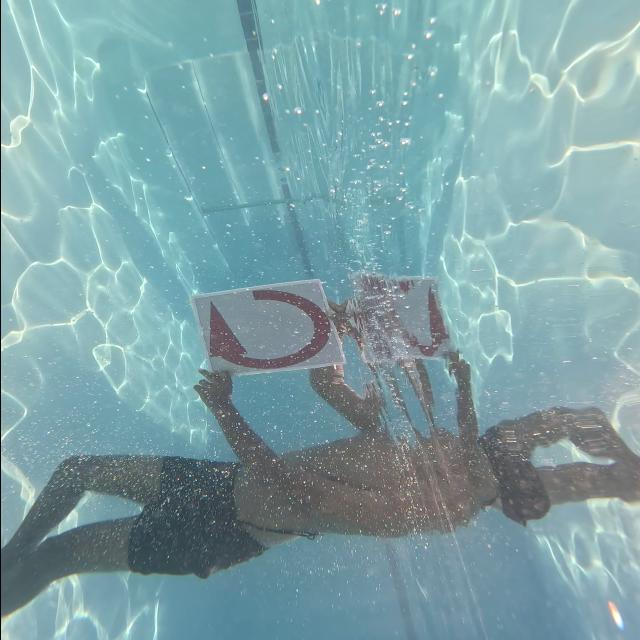red_side: (193, 268, 339, 396)
